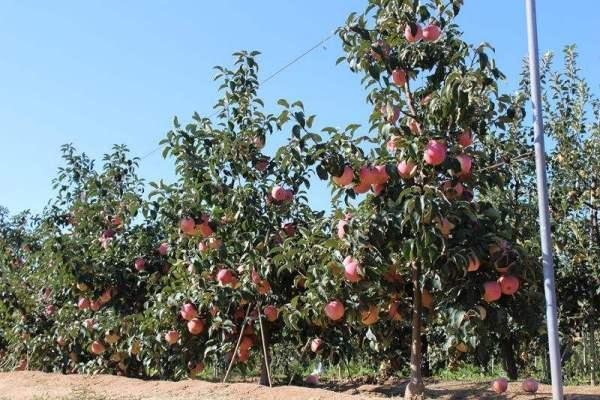apple: (340, 255, 363, 280), (359, 165, 382, 188), (332, 164, 355, 187), (424, 141, 447, 164), (498, 274, 518, 295), (479, 281, 499, 302), (325, 299, 345, 320), (403, 23, 421, 43), (423, 25, 441, 41), (453, 154, 469, 171)
